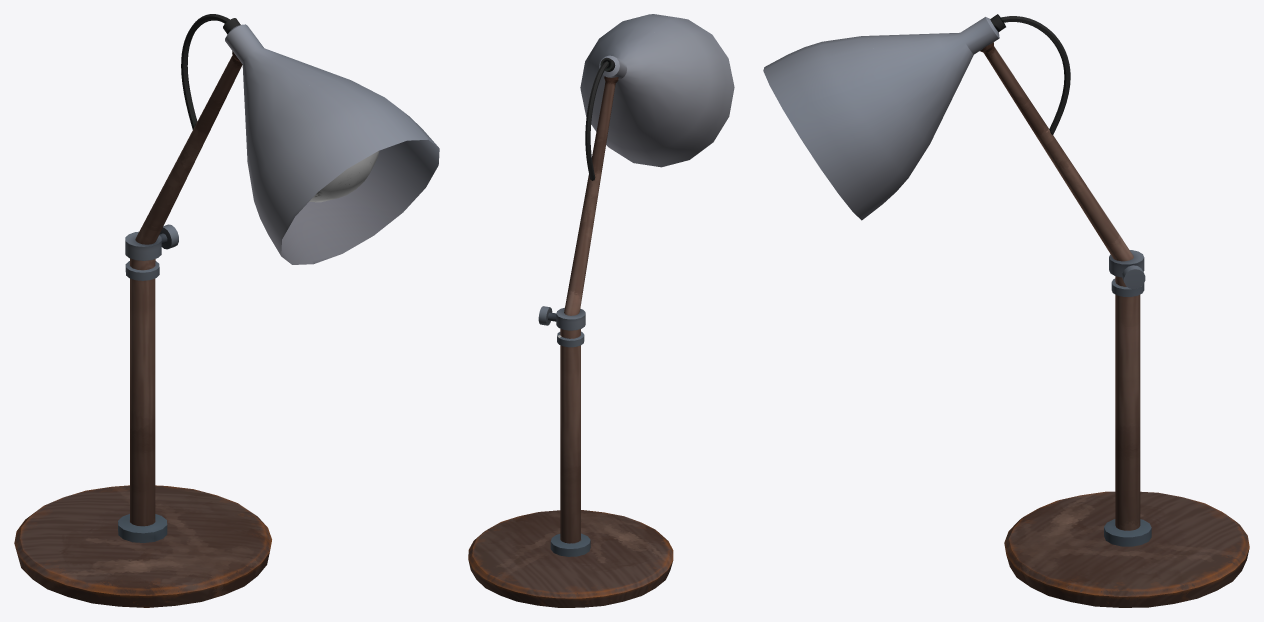
The model's file is Lampe.fbx.
The picture shows the model from 3 angles, left to right: view 1: azimuth 30°, elevation 25°; view 2: azimuth 150°, elevation 25°; view 3: azimuth 270°, elevation 25°; orthographic projection. The views are drawn at different scales.
Visible parts, largest first — view 1: Cylinder.005; view 2: Cylinder.005; view 3: Cylinder.005.
Boxes of the visible parts, left/top/right/bottom form: Cylinder.005: left=14, top=14, right=439, bottom=607; Cylinder.005: left=468, top=14, right=734, bottom=607; Cylinder.005: left=763, top=14, right=1249, bottom=607.
Bounding box in the file's own units: 0.2741 × 0.6182 × 0.4932.
